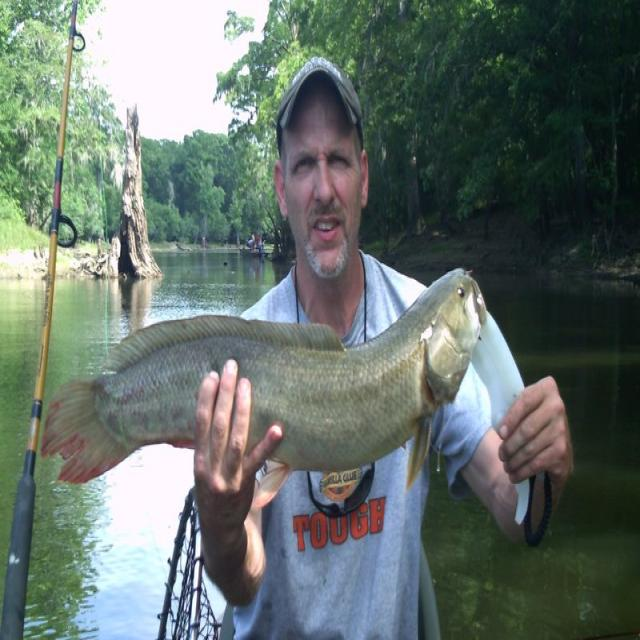Bowfin: (41, 270, 486, 506)
